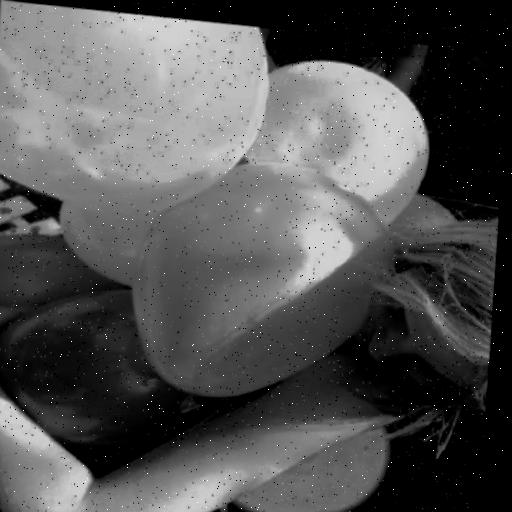balloon: (112, 142, 412, 416), (0, 0, 280, 232), (0, 271, 258, 460), (0, 220, 134, 327)
